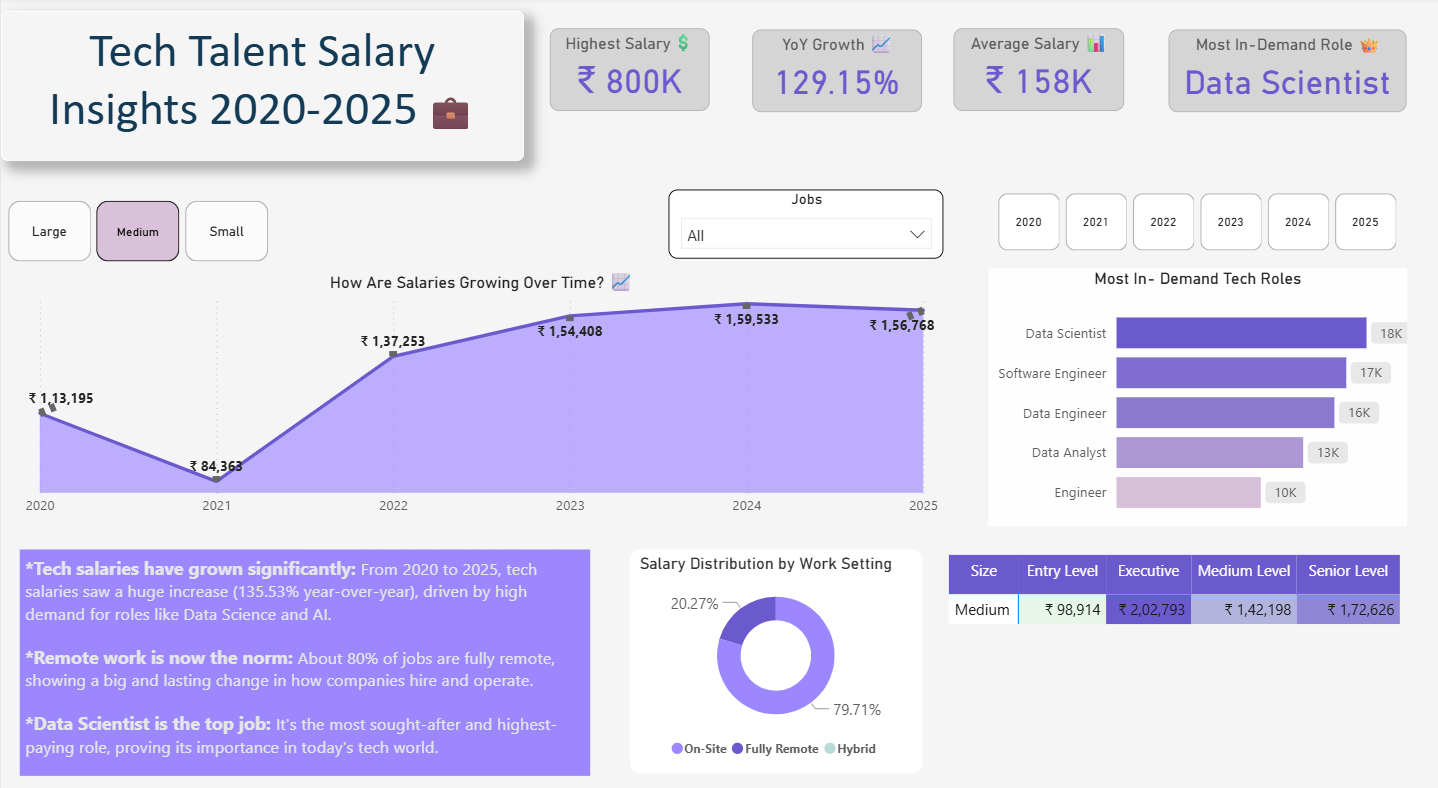

What the dashboard file says about the page in this screenshot:
{"tool":"powerbi","page":{"name":"Dashboard","canvas":[1280,720],"ordinal":0},"visuals":[{"type":"card","title":"Highest Salary💲","fields":{"Values":["salaries.Highest Salary"]},"box":[488.6,27.7,142.4,73.6],"z":0},{"type":"card","title":"Average Salary 📊","fields":{"Values":["salaries.Average salary"]},"box":[848.1,27.7,152,73.6],"z":1000},{"type":"card","title":"YoY Growth 📈","fields":{"Values":["salaries.Salary YoY Growth %"]},"box":[669.6,29,150.8,73.6],"z":2000},{"type":"card","title":"Most In-Demand Role 👑","fields":{"Values":["salaries.MostPopularRole"]},"box":[1040,29,212.3,73.6],"z":3000},{"type":"pivotTable","fields":{"Rows":["salaries.Size"],"Columns":["salaries.Experience"],"Values":["salaries.Average salary"]},"box":[839.7,492.2,418.6,158],"z":4000},{"type":"lineChart","title":"How Are Salaries Growing Over Time? 📈","fields":{"Category":["salaries.work_year"],"Y":["salaries.Average salary"]},"box":[16.9,241.3,822.8,229.2],"z":5000},{"type":"donutChart","title":"Salary Distribution by Work Setting","fields":{"Category":["salaries.JobType"],"Y":["salaries.Total Salary"]},"box":[559.8,492.2,260.6,199.1],"z":6000},{"type":"barChart","title":"Most In- Demand Tech Roles","fields":{"Category":["salaries.job_title"],"Y":["salaries.Job counts"]},"box":[879.5,241.3,372.8,229.2],"z":7000},{"type":"textbox","box":[0,12.1,465.7,133.9],"z":8000},{"type":"textbox","box":[16.9,492.2,507.9,201.5],"z":9000},{"type":"advancedSlicerVisual","title":"🗓️","fields":{"Values":["salaries.work_year"]},"box":[881.6,174.8,369.6,57.9],"z":10000},{"type":"slicer","title":"Jobs","fields":{"Values":["salaries.job_title"]},"box":[594.8,171.3,244.9,61.5],"z":11000},{"type":"advancedSlicerVisual","title":"Company 🏢","fields":{"Values":["salaries.Size"]},"box":[0,181,244.9,60.3],"z":12000}]}

Visuals, with their boxes in screenshot pixels (x1, y1, x2, y2), scaled from the page's 1280x720 canvas onto the 1438x788 screenshot:
"Highest Salary💲" card: x1=549 y1=30 x2=709 y2=111
"Average Salary 📊" card: x1=953 y1=30 x2=1124 y2=111
"YoY Growth 📈" card: x1=752 y1=32 x2=922 y2=112
"Most In-Demand Role 👑" card: x1=1168 y1=32 x2=1407 y2=112
pivotTable - salaries.Size x salaries.Experience: x1=943 y1=539 x2=1414 y2=712
"How Are Salaries Growing Over Time? 📈" lineChart: x1=19 y1=264 x2=943 y2=515
"Salary Distribution by Work Setting" donutChart: x1=629 y1=539 x2=922 y2=757
"Most In- Demand Tech Roles" barChart: x1=988 y1=264 x2=1407 y2=515
textbox: x1=0 y1=13 x2=523 y2=160
textbox: x1=19 y1=539 x2=590 y2=759
"🗓️" advancedSlicerVisual: x1=990 y1=191 x2=1406 y2=255
"Jobs" slicer: x1=668 y1=187 x2=943 y2=255
"Company 🏢" advancedSlicerVisual: x1=0 y1=198 x2=275 y2=264
